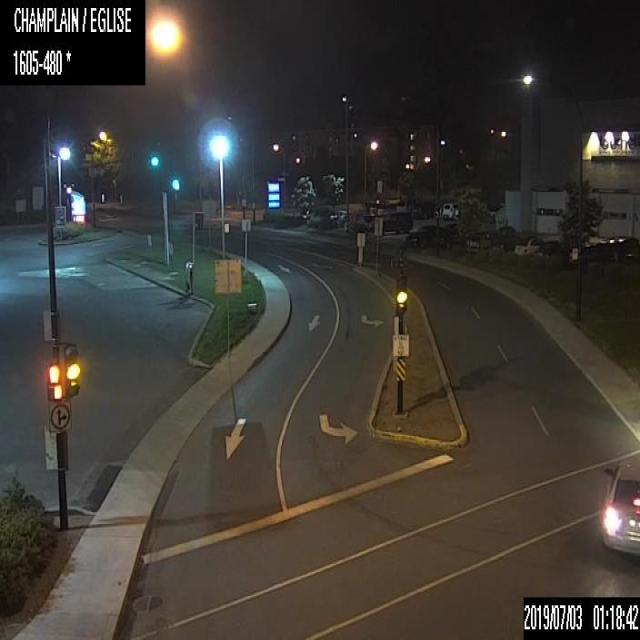vehicle: (601, 453, 639, 558), (596, 235, 636, 265), (369, 210, 412, 232), (405, 223, 442, 247), (431, 222, 464, 248), (568, 238, 599, 265), (490, 231, 520, 252), (514, 234, 542, 256), (466, 230, 494, 250), (533, 238, 561, 258), (311, 204, 333, 220), (330, 208, 346, 226), (442, 201, 458, 219), (298, 207, 318, 220), (412, 203, 427, 218), (395, 199, 411, 210)
